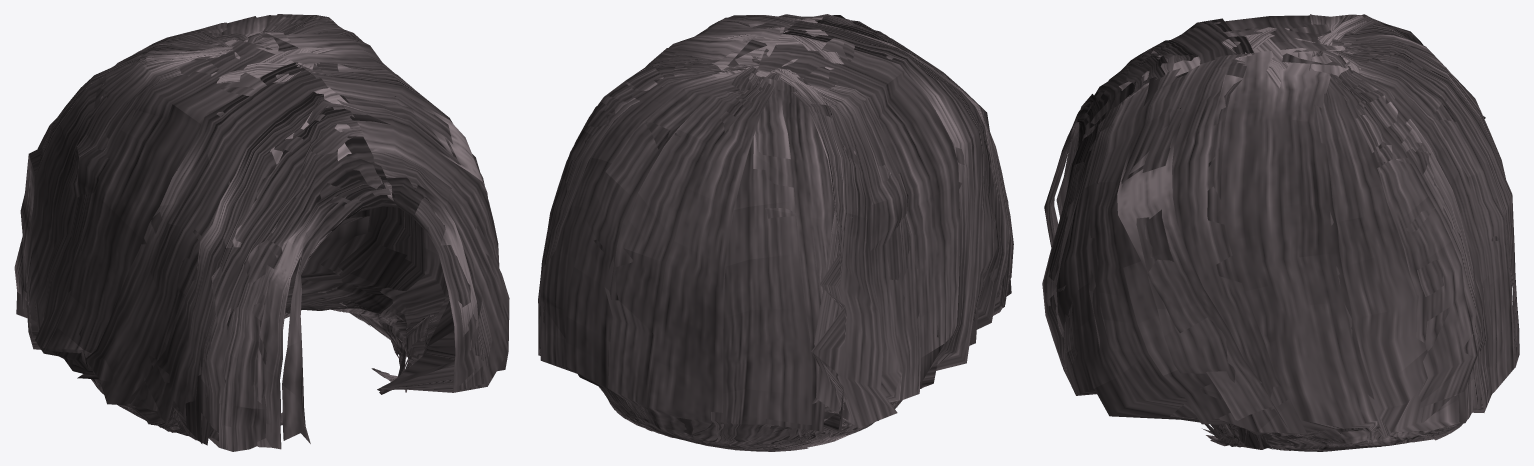
Rendered from hair_short04.glb.
3 renders of one model, left to right at view 1: azimuth 30°, elevation 25°; view 2: azimuth 150°, elevation 25°; view 3: azimuth 270°, elevation 25°, orthographic. The views are drawn at different scales.
Parts seen in each view (by area): view 1: hair_short04; view 2: hair_short04; view 3: hair_short04.
Boxes of the visible parts, bbox=[...] form: hair_short04: bbox=[14, 14, 509, 451]; hair_short04: bbox=[538, 14, 1013, 451]; hair_short04: bbox=[1042, 14, 1519, 451].
Bounding box in the file's own units: 0.1797 × 0.156 × 0.1951.
1 material, 1 textured.
